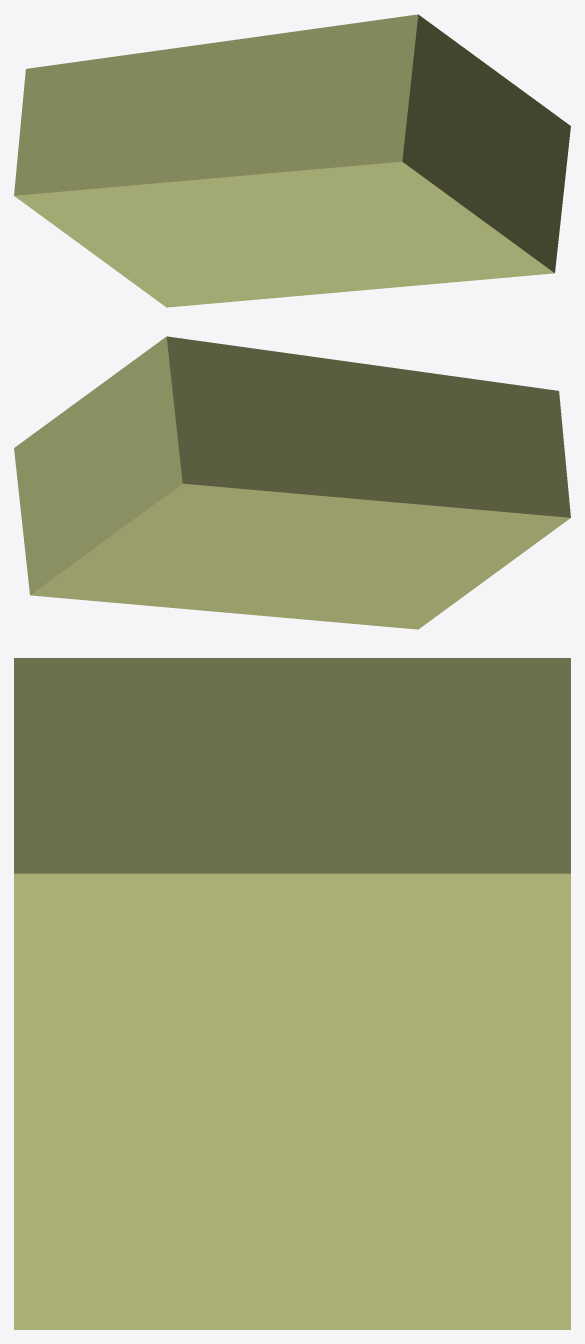
The picture shows the model from 3 angles, top to bottom: view 1: azimuth 30°, elevation 25°; view 2: azimuth 150°, elevation 25°; view 3: azimuth 270°, elevation 25°; orthographic projection. The views are drawn at different scales.
Visible parts, largest first — view 1: 0_1_0_1_3_3_3_3_2_2_1; view 2: 0_1_0_1_3_3_3_3_2_2_1; view 3: 0_1_0_1_3_3_3_3_2_2_1.
Part boxes in pixels (<box>): 0_1_0_1_3_3_3_3_2_2_1: <box>14,14,570,307</box>; 0_1_0_1_3_3_3_3_2_2_1: <box>14,336,570,629</box>; 0_1_0_1_3_3_3_3_2_2_1: <box>14,658,570,1329</box>.
Bounding box in the file's own units: 9.18 × 4 × 6.
